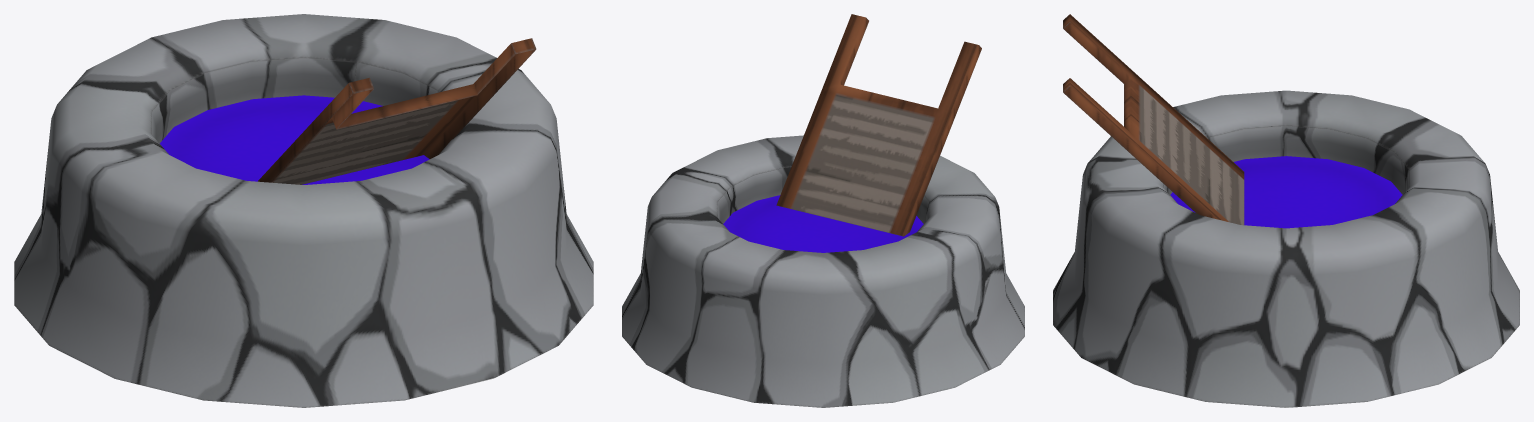
File: HD_Build_Harvester_WaterWell_2x2_Mesh001.FBX
3 renders of one model, left to right at view 1: azimuth 30°, elevation 25°; view 2: azimuth 150°, elevation 25°; view 3: azimuth 270°, elevation 25°, orthographic. The views are drawn at different scales.
Parts seen in each view (by area): view 1: HD_Build_Harwester_WaterWell_Mesh003; view 2: HD_Build_Harwester_WaterWell_Mesh003; view 3: HD_Build_Harwester_WaterWell_Mesh003.
Part boxes in pixels (x1,y1,x2,y2): HD_Build_Harwester_WaterWell_Mesh003: (14,14,593,407); HD_Build_Harwester_WaterWell_Mesh003: (622,14,1024,407); HD_Build_Harwester_WaterWell_Mesh003: (1053,14,1519,407).
Bounding box in the file's own units: 120 × 71.97 × 118.
1 material, 1 textured.
